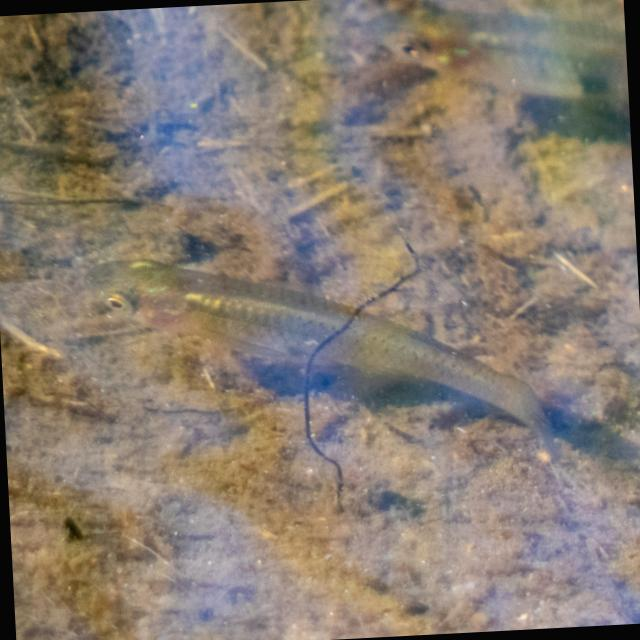Sivrisinek Baligi: (89, 234, 587, 486)
